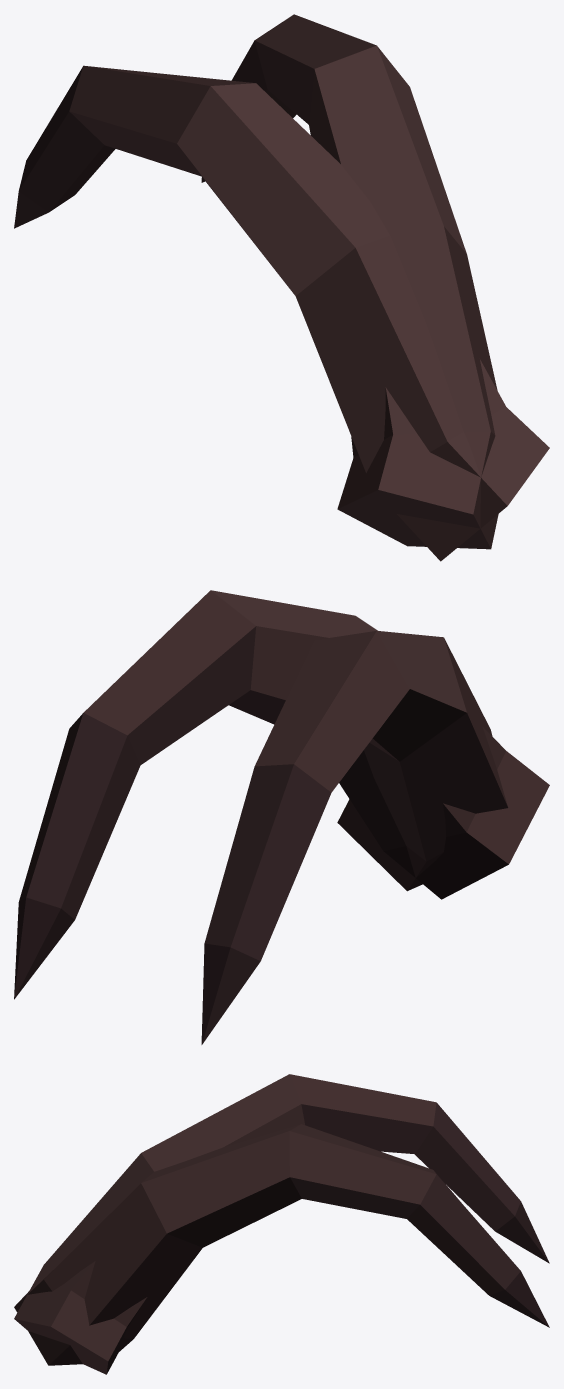
File: horns_ip_curl.glb
The picture shows the model from 3 angles, top to bottom: view 1: azimuth 30°, elevation 25°; view 2: azimuth 150°, elevation 25°; view 3: azimuth 270°, elevation 25°; orthographic projection. The views are drawn at different scales.
Parts seen in each view (by area): view 1: Horn_R, Horn_L; view 2: Horn_R, Horn_L; view 3: Horn_L, Horn_R.
Boxes of the visible parts, box(x1,y1,x2,y2) form: Horn_R: box(14, 65, 549, 561); Horn_L: box(201, 14, 498, 549); Horn_R: box(201, 630, 508, 1044); Horn_L: box(14, 590, 549, 999); Horn_L: box(14, 1124, 549, 1365); Horn_R: box(14, 1074, 549, 1374).
Size of the model in its own units: 0.0308 by 0.0427 by 0.0778.
1 material, 1 textured.
